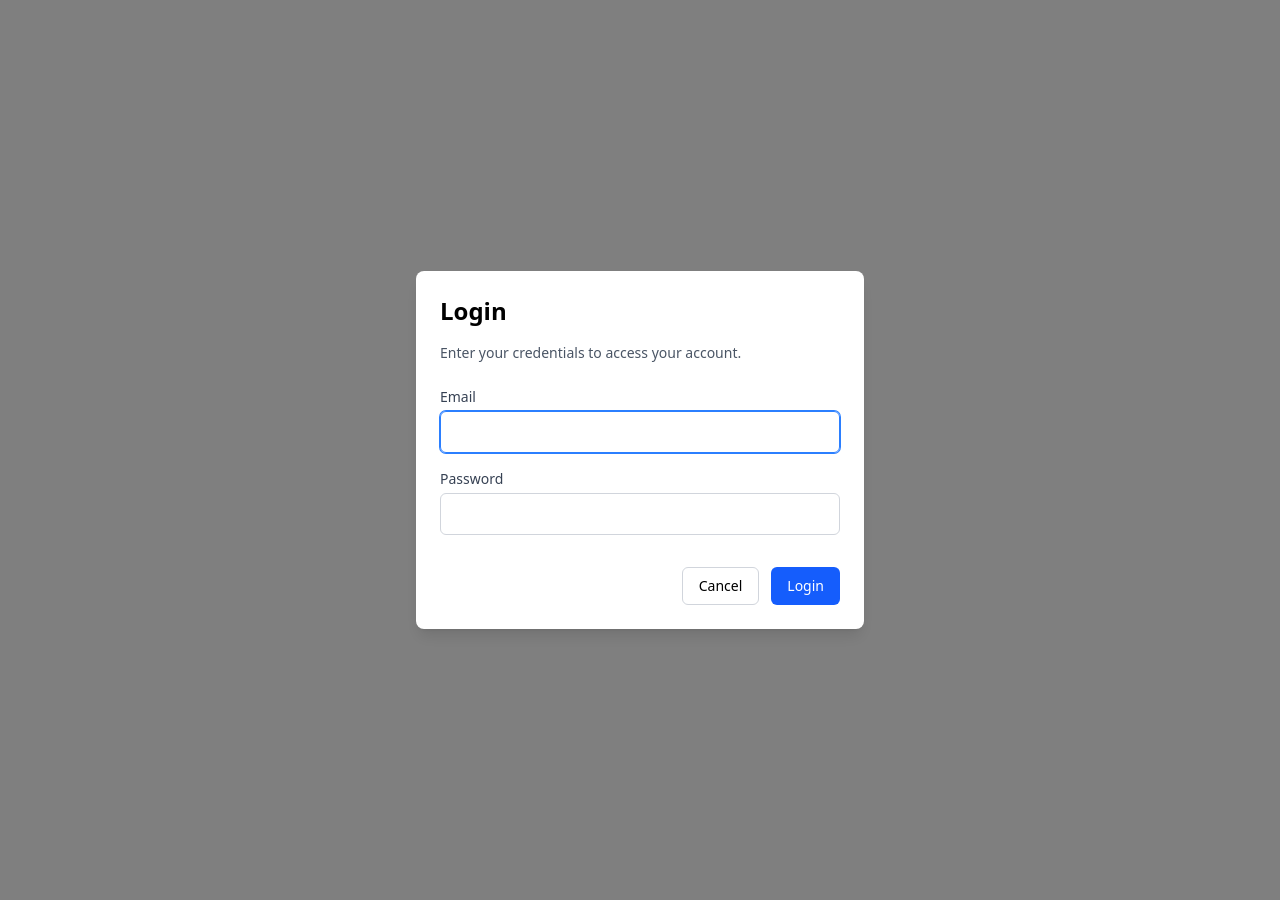
LoginDialog › validates password minimum length
Type "test@example.com" into the field labelled "Email" at (640, 432), box [440, 411, 840, 453]
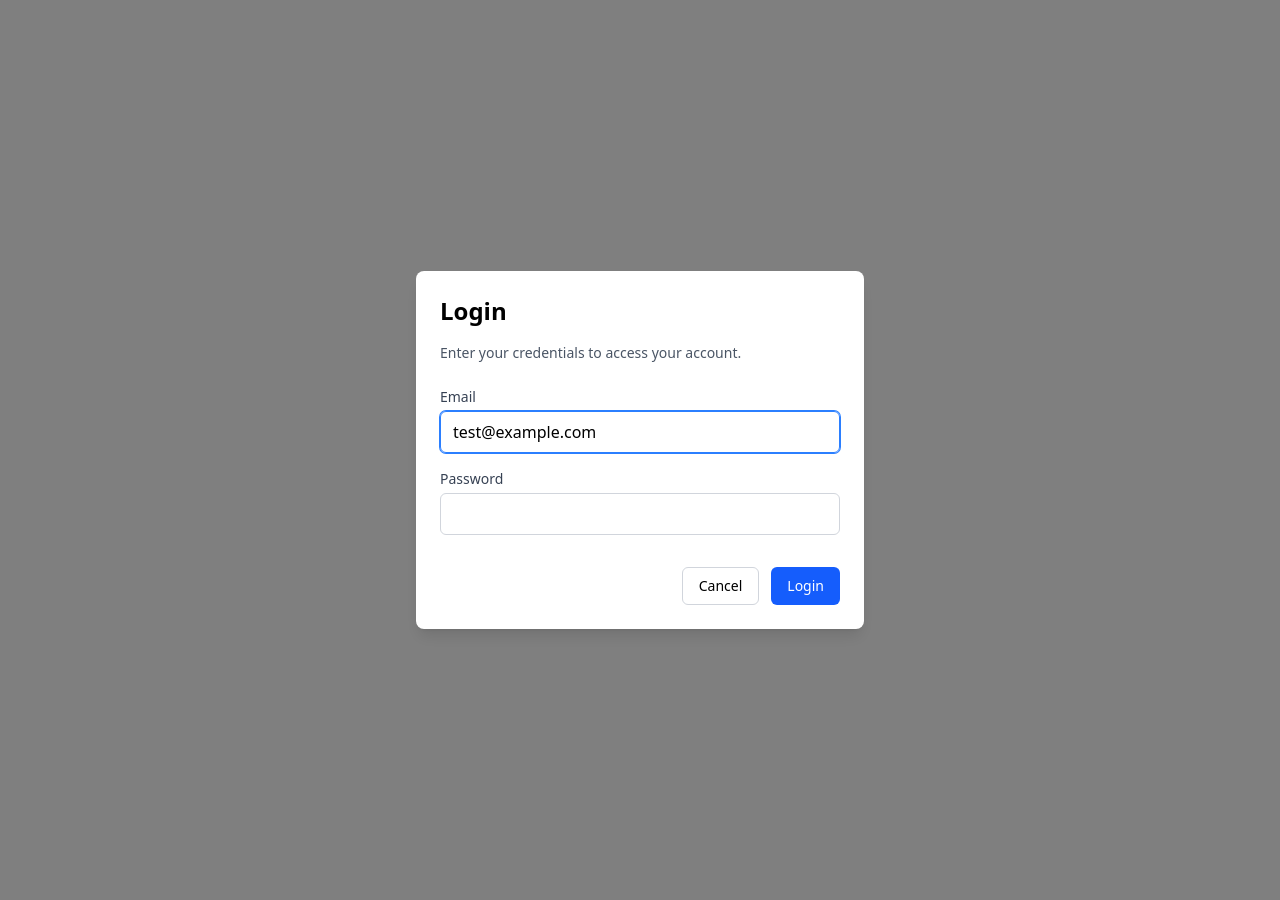
Type "short" into the password field labelled "Password" at (640, 514), box [440, 493, 840, 535]
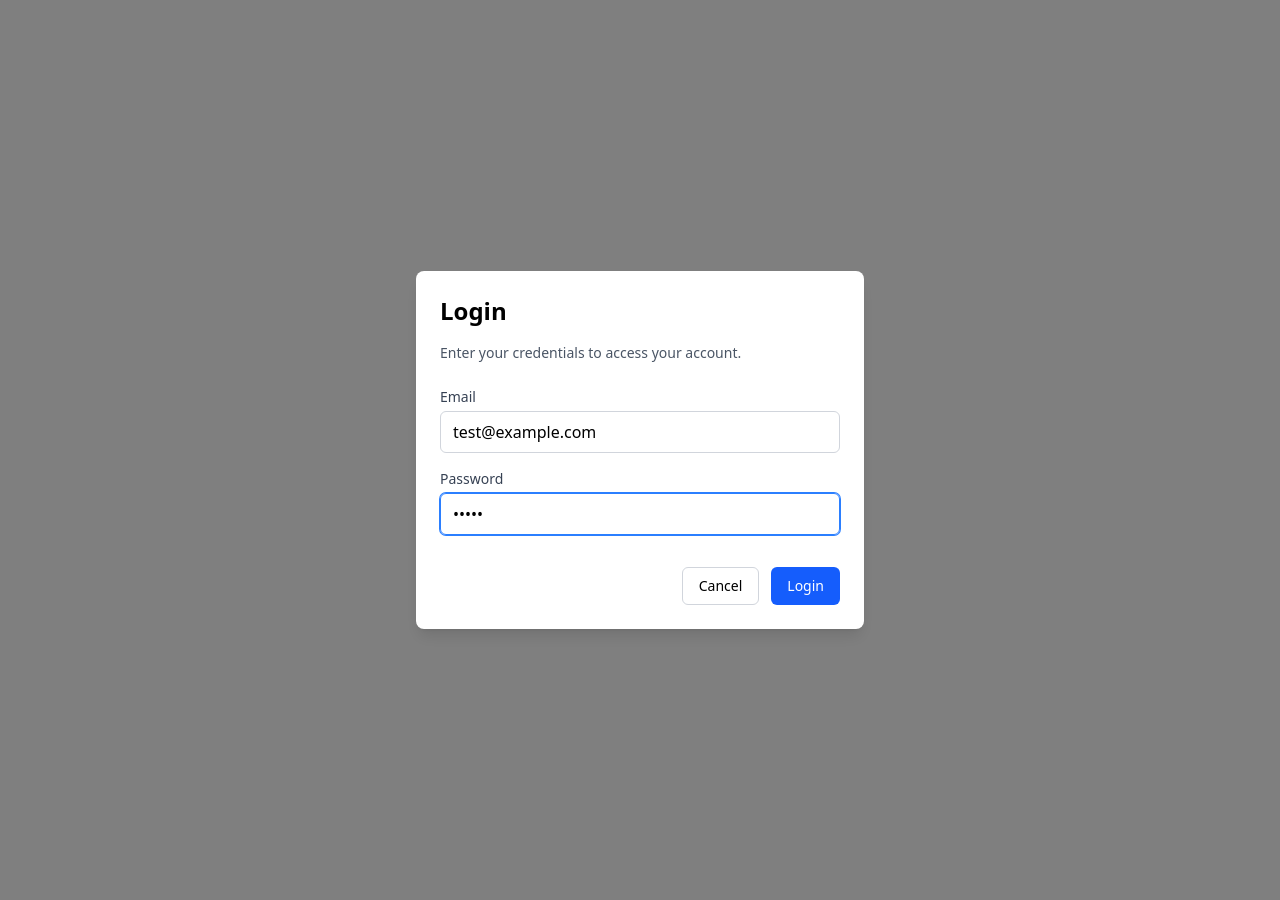
Click the button "Login" at (806, 586), box [771, 567, 840, 605]
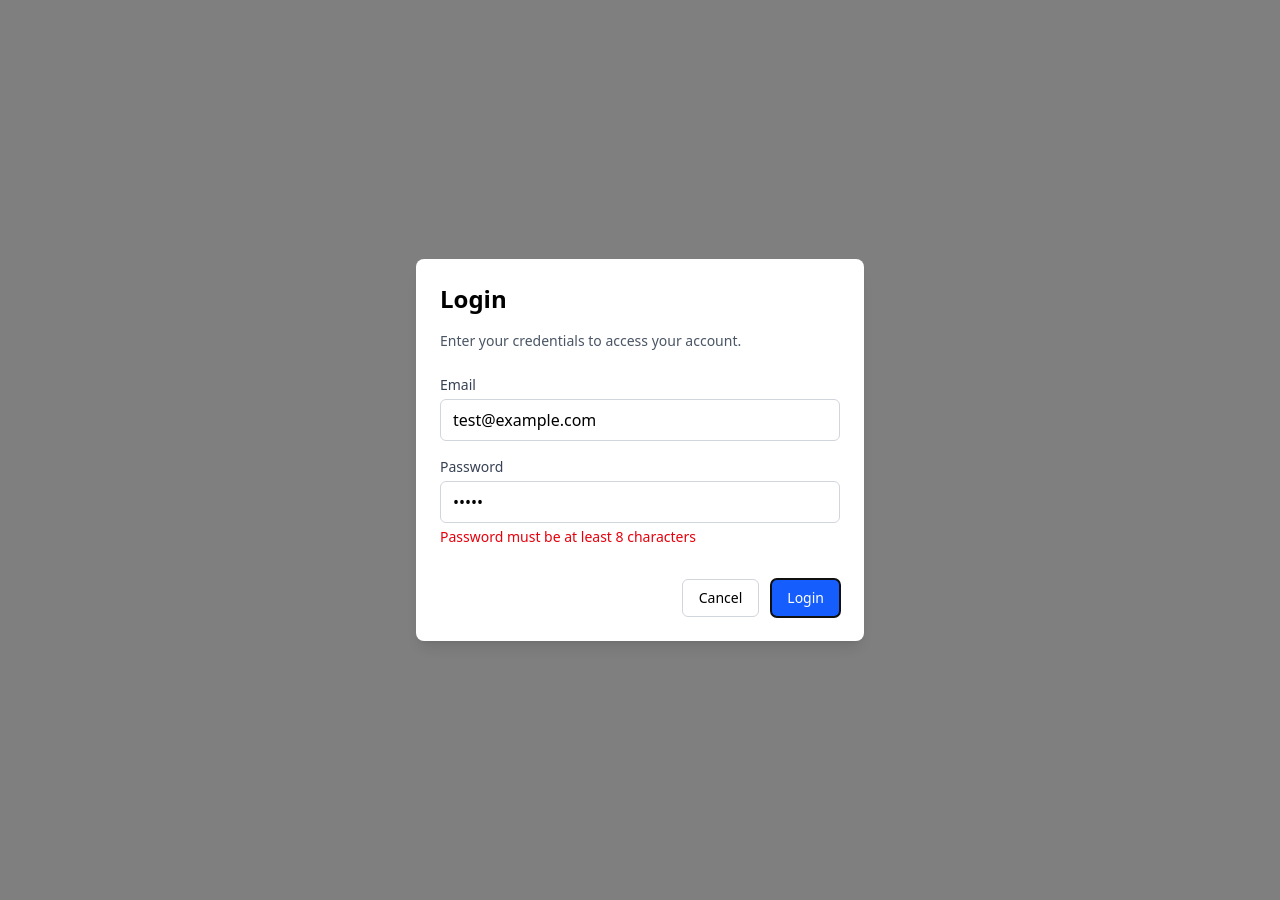
Result: the text "Password must be at least 8 characters" is shown at [440, 527, 696, 546]
